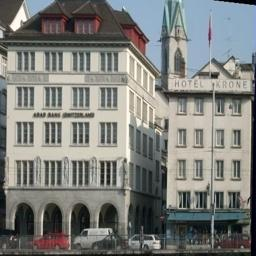building: (0, 1, 154, 250), (164, 48, 256, 241)
